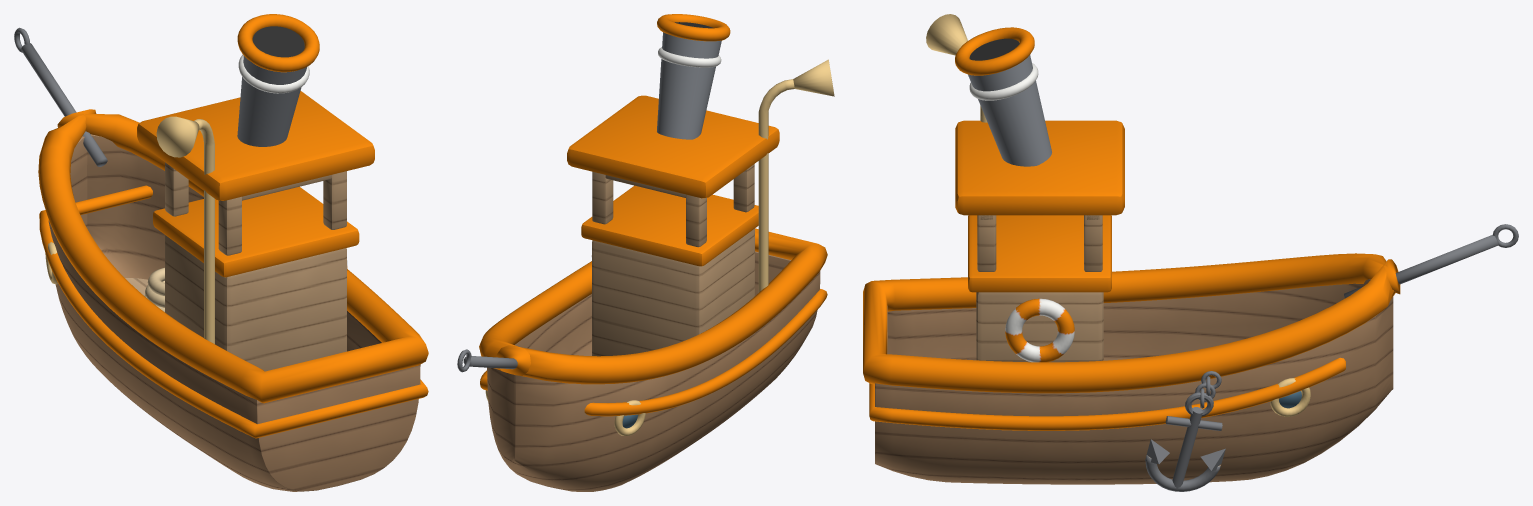
Rendered from SM_TugBoat.fbx.
The picture shows the model from 3 angles, left to right: view 1: azimuth 30°, elevation 25°; view 2: azimuth 150°, elevation 25°; view 3: azimuth 270°, elevation 25°; orthographic projection. The views are drawn at different scales.
Parts seen in each view (by area): view 1: SM_TugBoat; view 2: SM_TugBoat; view 3: SM_TugBoat.
Boxes of the visible parts, <box> form: SM_TugBoat: <box>14,14,428,491</box>; SM_TugBoat: <box>457,14,834,491</box>; SM_TugBoat: <box>863,14,1518,491</box>.
Size of what is drawn, in the model's own units: 0.6154 by 1.01 by 1.39.
